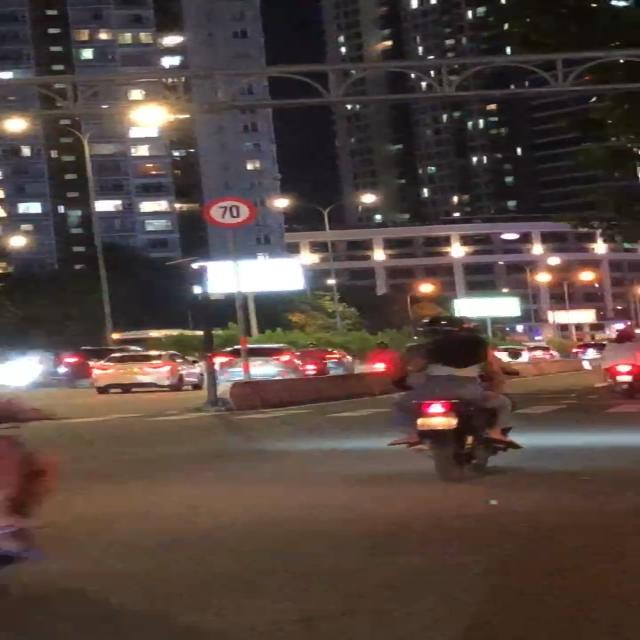Bien bao toc do toi da cho phep: (201, 192, 256, 230)
